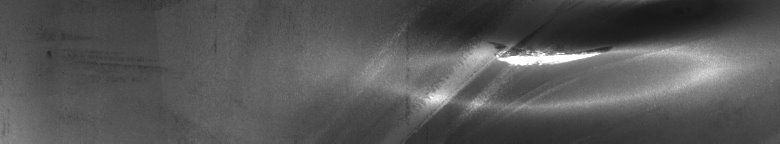ke: (419, 36, 683, 120)
